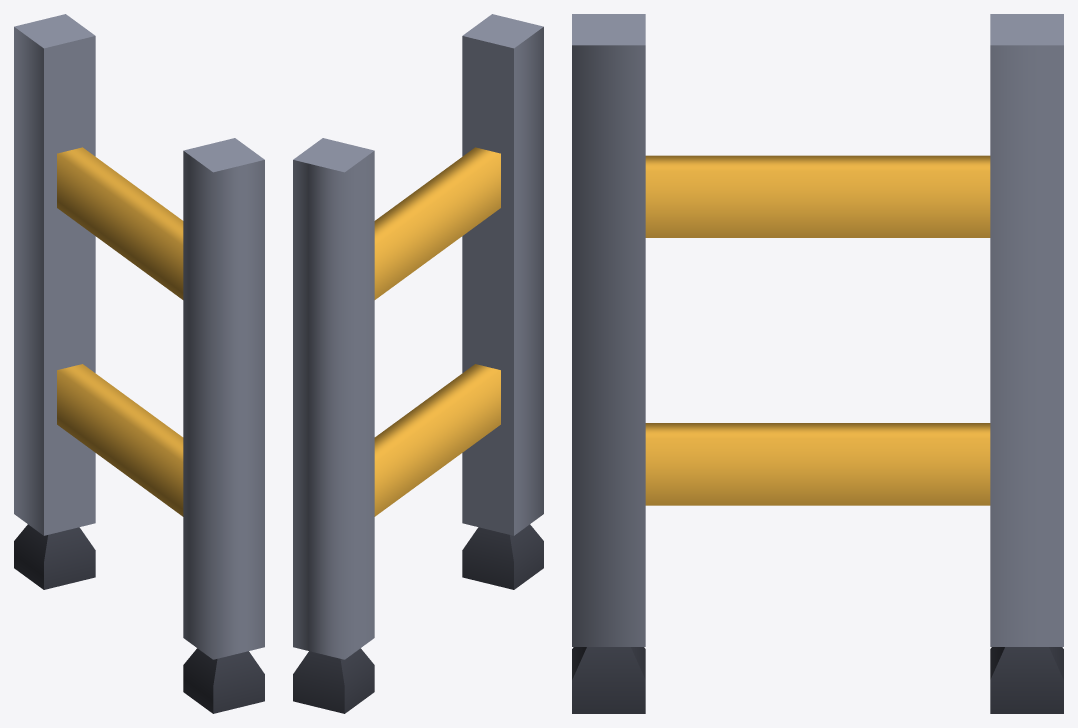
The model's file is structure-yellow-high.dae.
3 views of the same model, side by side, from view 1: azimuth 30°, elevation 25°; view 2: azimuth 150°, elevation 25°; view 3: azimuth 270°, elevation 25° (orthographic). The views are drawn at different scales.
Visible parts, largest first — view 1: structure-yellow-high; view 2: structure-yellow-high; view 3: structure-yellow-high.
Boxes of the visible parts, x1,y1,x2,y2 form: structure-yellow-high: (14, 14, 264, 713); structure-yellow-high: (293, 14, 543, 713); structure-yellow-high: (572, 14, 1063, 713).
Size of the model in its own units: 0.15 by 1.5 by 1.
